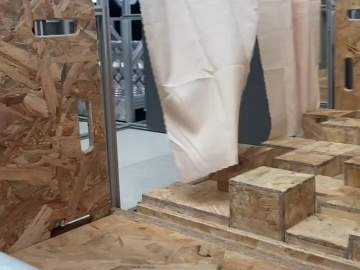curtain: (151, 0, 338, 165)
